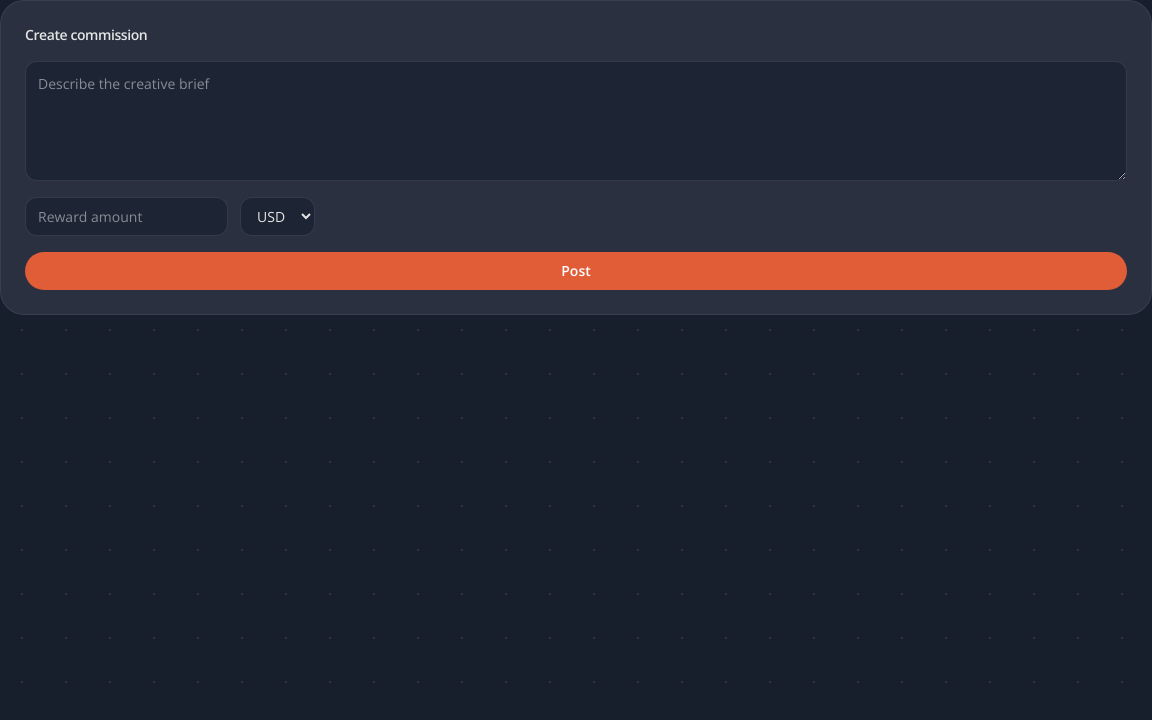
CommissionForm › shows error for invalid reward amount
The width and height of the screenshot is (1152, 720).
Type "Need a logo" into the text box with placeholder "Describe the creative brief" at (576, 121), box [25,61,1127,181]
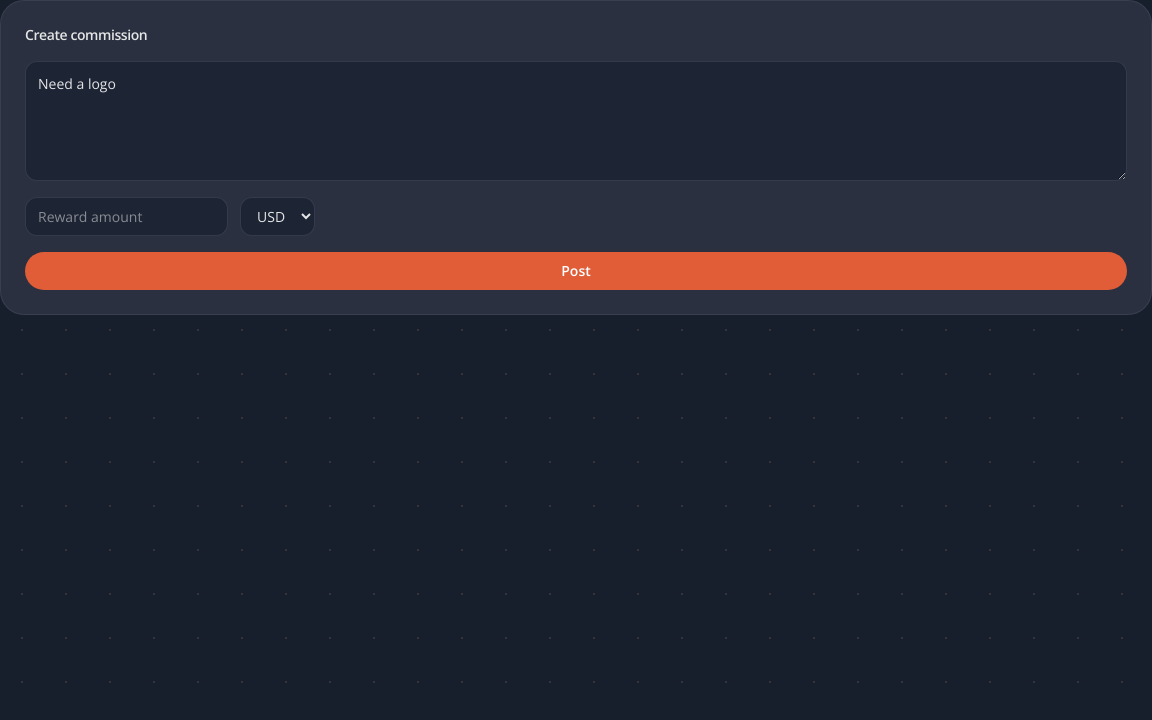
Type "abc" into the field with placeholder "Reward amount" at (126, 216), box [25,197,228,236]
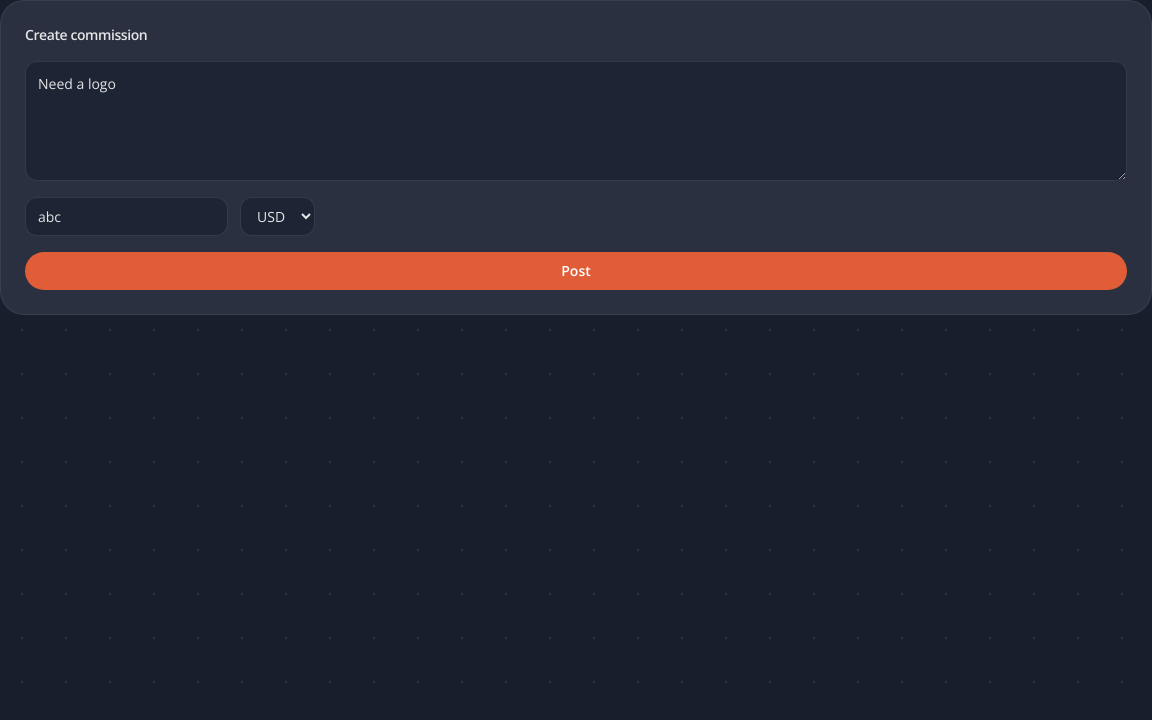
Submit the form "Create commission Post", box [0,0,1151,315]
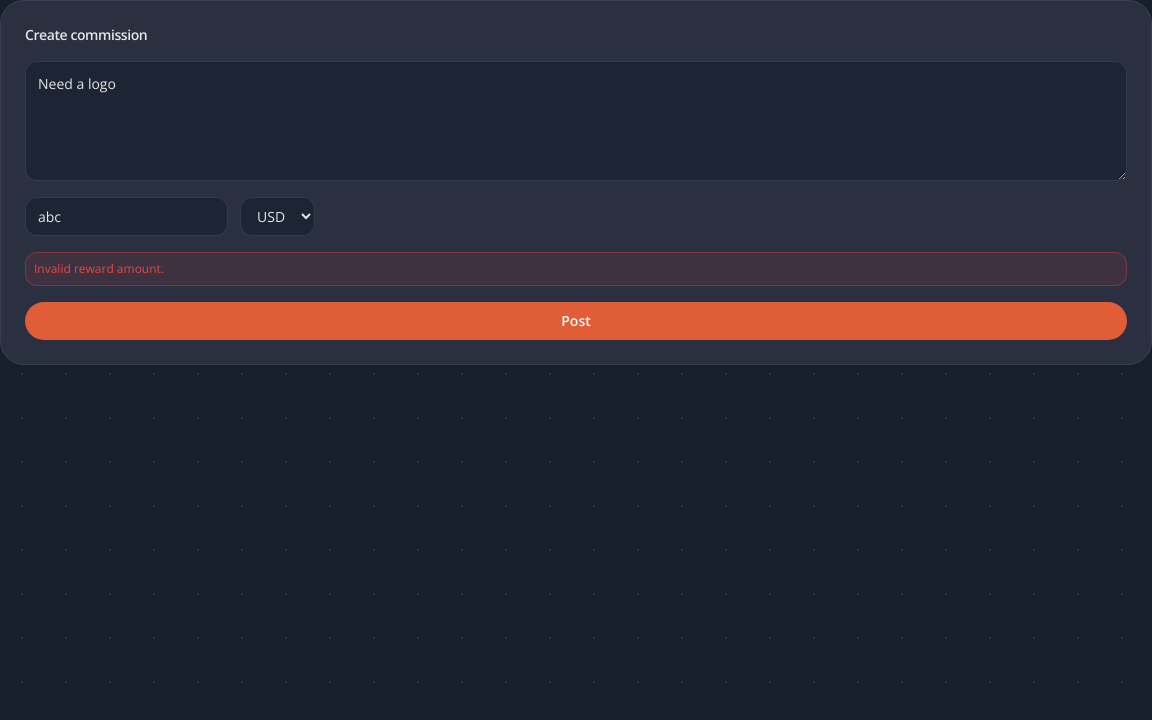
expect the text "Invalid reward amount." is shown: met, box [25,252,1127,286]
